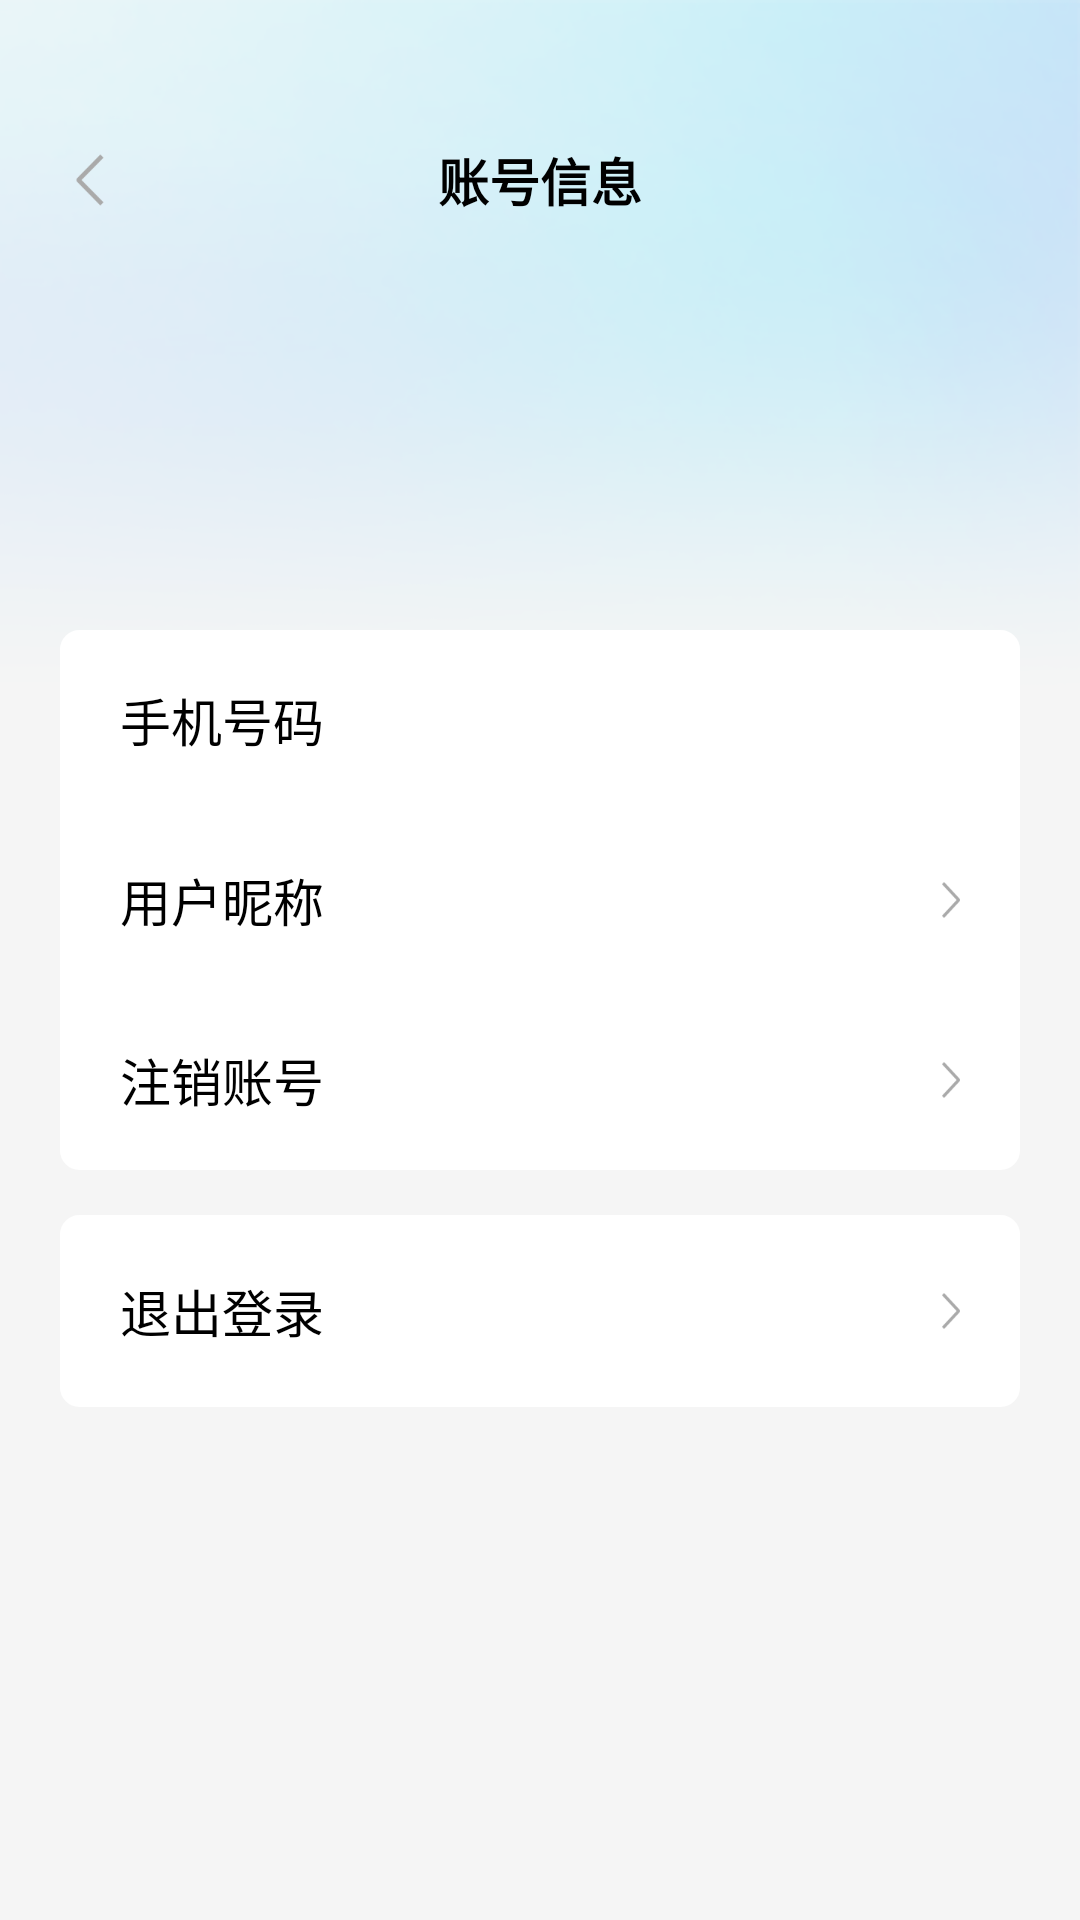

Screen size 1080 × 1920. Icon name, then its box in pixels as (x1, y1, x2, y2):
back: (76, 155, 103, 205)
